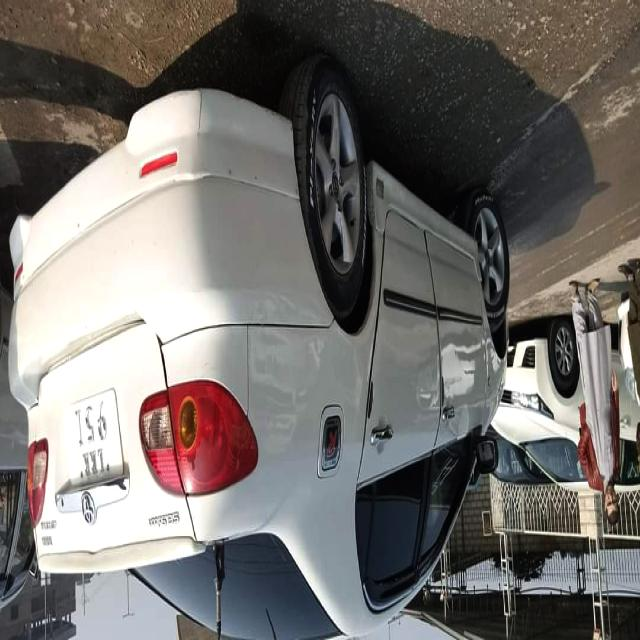black: (493, 437, 551, 517)
white: (0, 98, 508, 640), (499, 334, 639, 504)
